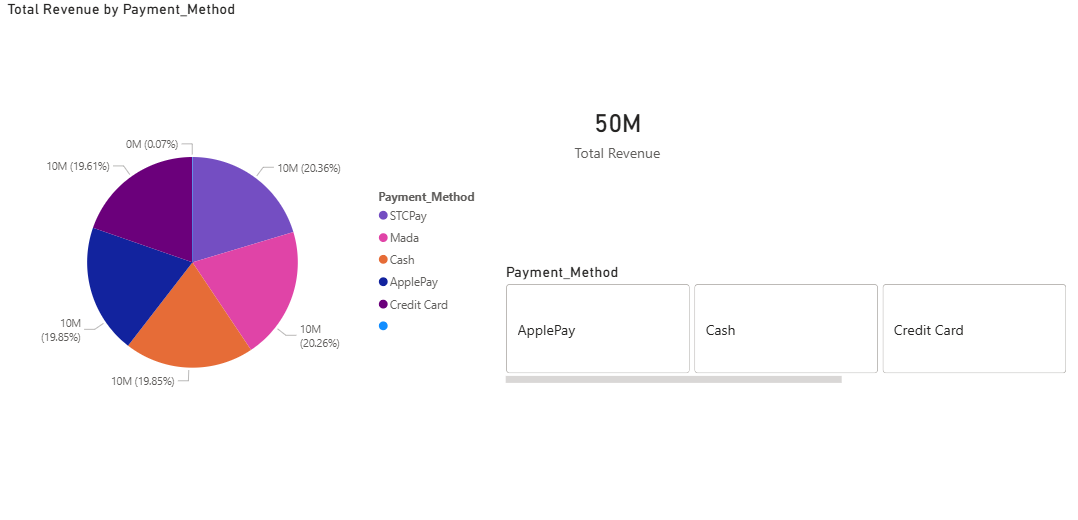

This screenshot's page, from the dashboard's own definition file:
{"tool":"powerbi","page":{"name":"Payment Method Analysis","canvas":[1280,720],"ordinal":1},"visuals":[{"type":"pieChart","fields":{"Category":["Makeup website in Saudi Arabia.Payment_Method"],"Y":["Makeup website in Saudi Arabia.Total Revenue"]},"box":[9.8,0,560.1,580.8],"z":0},{"type":"card","fields":{"Values":["Makeup website in Saudi Arabia.Total Revenue"]},"box":[579.6,0,265.4,299.6],"z":1000},{"type":"advancedSlicerVisual","fields":{"Values":["Makeup website in Saudi Arabia.Payment_Method"]},"box":[579.6,299.6,651,144.3],"z":2000}]}

Visuals, with their boxes on the page's 1280x720 design canvas (x1, y1, x2, y2). These are canvas units, not pixel positions in the 1078x520 screenshot, which may show the page scaled, cropped or inside an application window:
pieChart - Makeup website in Saudi Arabia.Payment_Method x Makeup website in Saudi Arabia.Total Revenue: [10,0,570,581]
card - Makeup website in Saudi Arabia.Total Revenue: [580,0,845,300]
advancedSlicerVisual - Makeup website in Saudi Arabia.Payment_Method: [580,300,1231,444]
